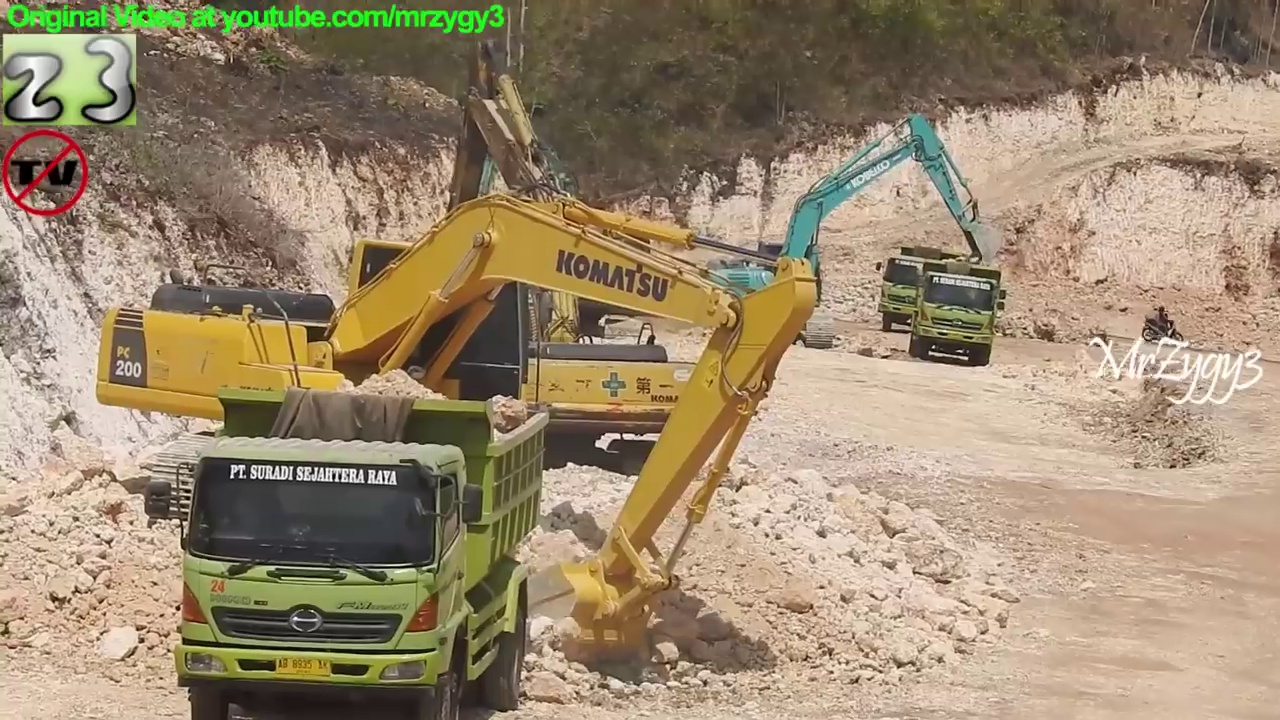excavator: (89, 186, 829, 676), (320, 34, 719, 481), (689, 105, 1006, 358), (417, 68, 692, 352)
truck: (141, 381, 556, 720), (907, 254, 1013, 371), (872, 241, 967, 337)
